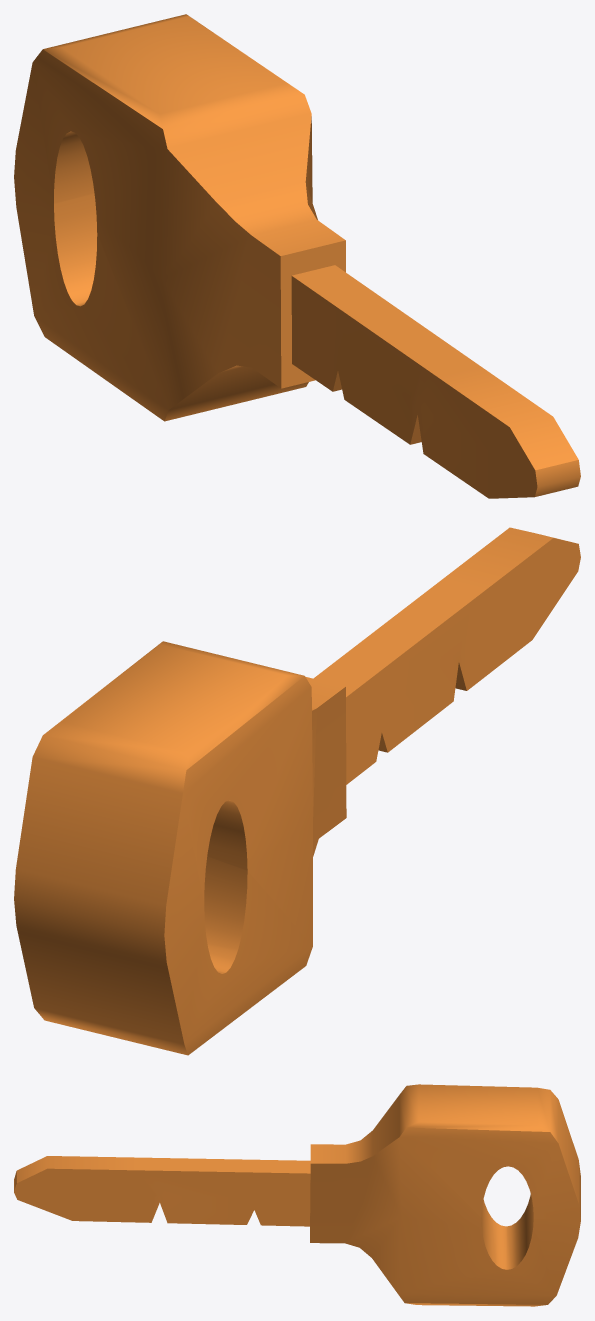
File: chave.fbx
3 renders of one model, top to bottom at view 1: azimuth 30°, elevation 25°; view 2: azimuth 150°, elevation 25°; view 3: azimuth 270°, elevation 25°, orthographic. The views are drawn at different scales.
Parts seen in each view (by area): view 1: Cube.005; view 2: Cube.005; view 3: Cube.005.
Part boxes in pixels (<box>): Cube.005: <box>14,14,580,498</box>; Cube.005: <box>14,527,580,1055</box>; Cube.005: <box>14,1084,580,1306</box>.
Bounding box in the file's own units: 2.97 × 5.78 × 16.09.
